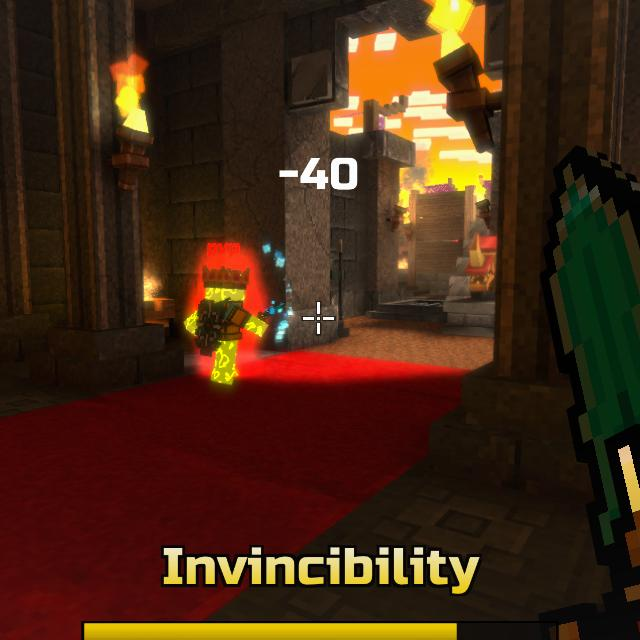Enemy: (183, 271, 269, 385)
